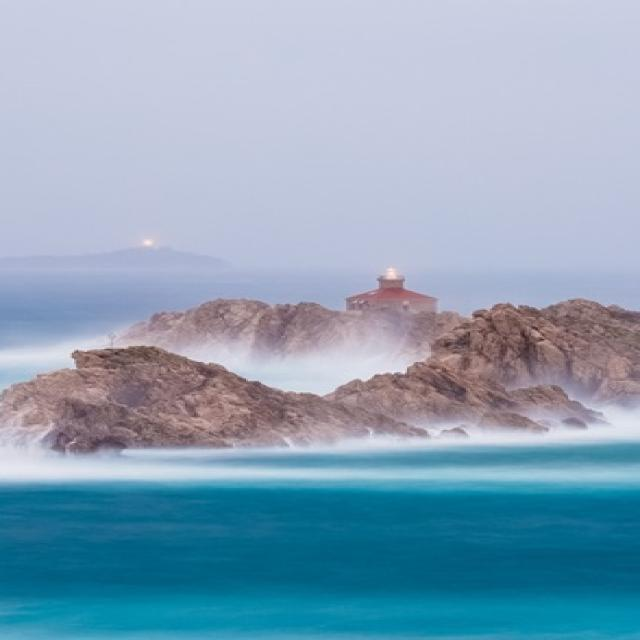island: (0, 264, 640, 461)
